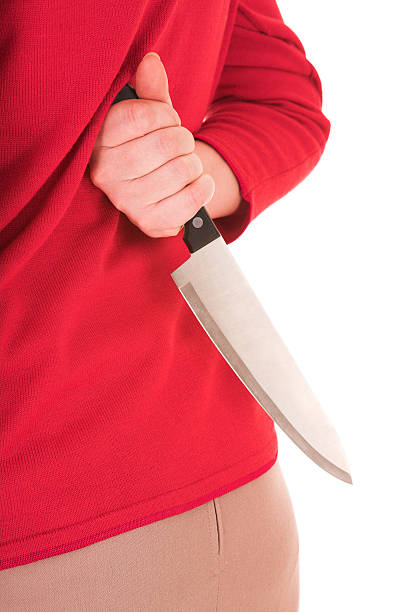knife: (166, 204, 357, 491)
